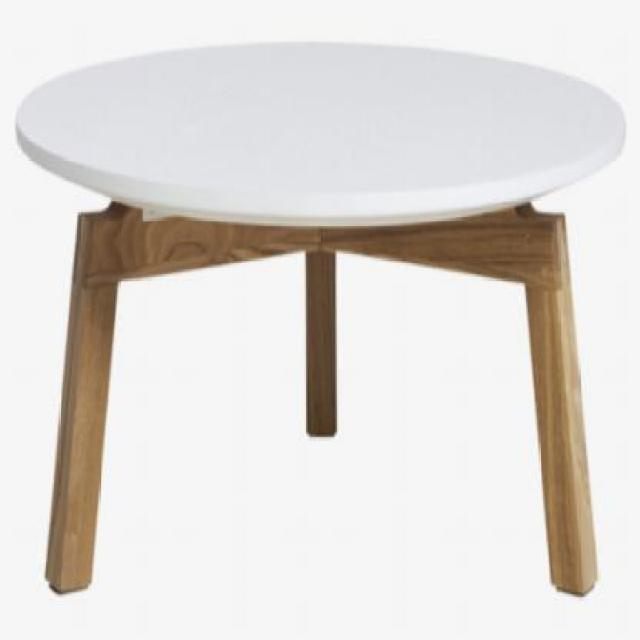table: (9, 35, 628, 599)
